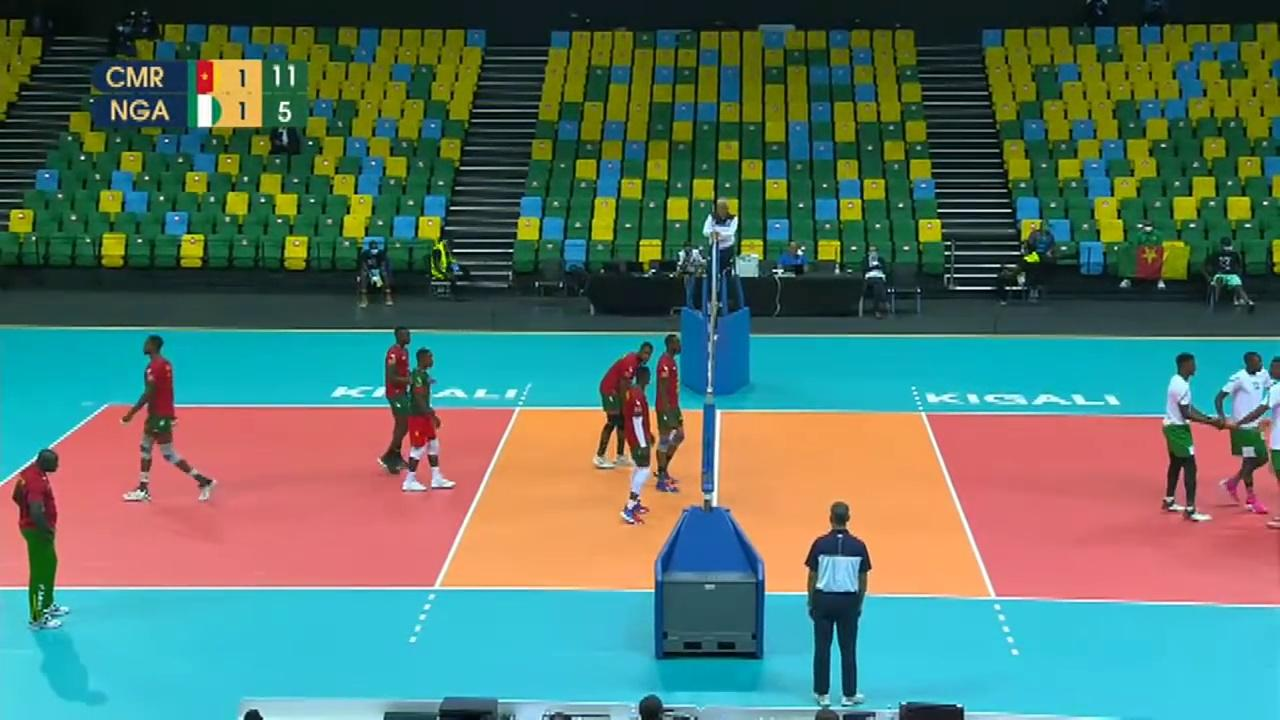player: (119, 335, 214, 497), (1215, 356, 1277, 520), (1158, 353, 1217, 520), (389, 347, 455, 490), (594, 340, 656, 469), (616, 364, 661, 533), (655, 324, 694, 502), (1242, 354, 1280, 528), (381, 325, 421, 468)
refree: (805, 505, 876, 708), (703, 198, 744, 309)
